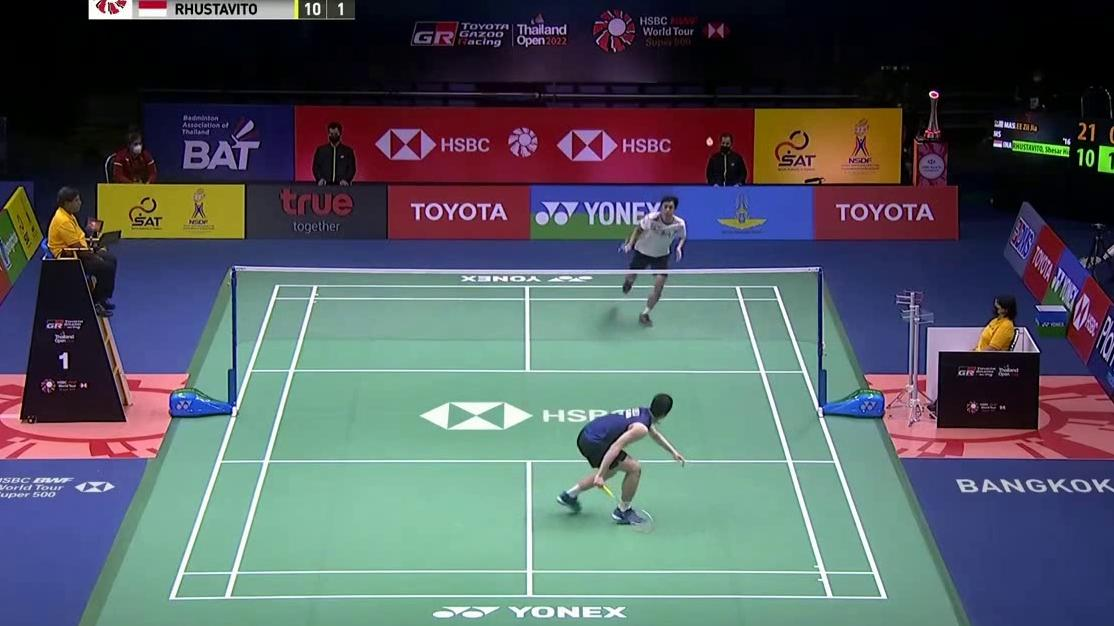racket: (596, 474, 654, 534)
shuttle: (706, 138, 714, 146)
